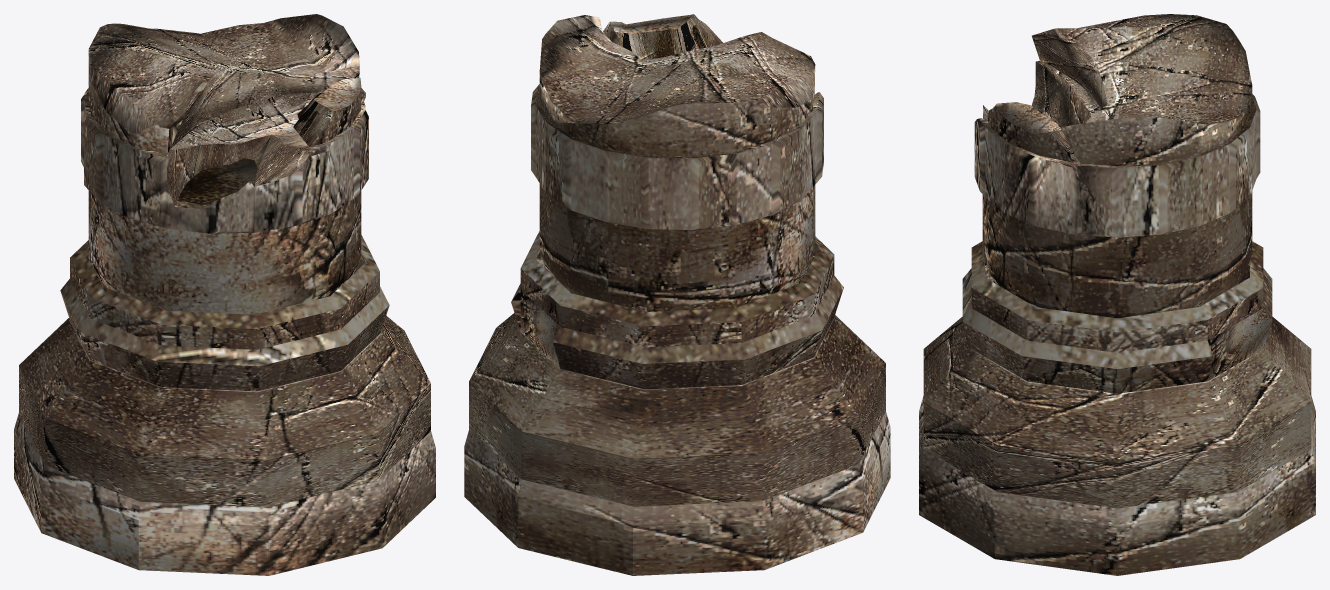
The model's file is TRP_Colum 04.FBX.
3 renders of one model, left to right at view 1: azimuth 30°, elevation 25°; view 2: azimuth 150°, elevation 25°; view 3: azimuth 270°, elevation 25°, orthographic. The views are drawn at different scales.
Parts seen in each view (by area): view 1: TRP Colum A_04; view 2: TRP Colum A_04; view 3: TRP Colum A_04.
Part boxes in pixels (<box>): TRP Colum A_04: <box>14,14,435,575</box>; TRP Colum A_04: <box>464,14,890,575</box>; TRP Colum A_04: <box>919,14,1315,575</box>.
Size of the model in its own units: 19.25 by 18.31 by 22.09.
1 material, 1 textured.
